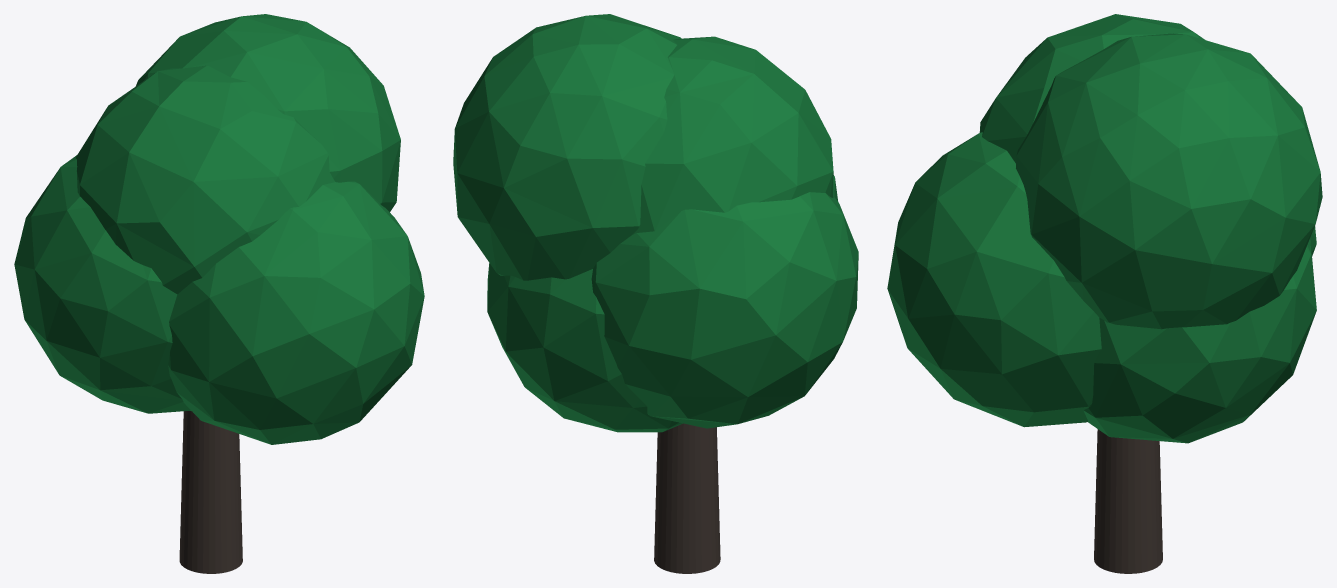
The model's file is tree.glb.
3 views of the same model, side by side, from view 1: azimuth 30°, elevation 25°; view 2: azimuth 150°, elevation 25°; view 3: azimuth 270°, elevation 25° (orthographic). The views are drawn at different scales.
Parts seen in each view (by area): view 1: Cylinder.001, Cylinder; view 2: Cylinder.001, Cylinder; view 3: Cylinder.001, Cylinder.
Boxes of the visible parts, x1=… form: Cylinder.001: x1=14, y1=14, x2=424, y2=444; Cylinder: x1=179, y1=411, x2=242, y2=573; Cylinder.001: x1=453, y1=14, x2=858, y2=432; Cylinder: x1=654, y1=423, x2=720, y2=573; Cylinder.001: x1=887, y1=14, x2=1322, y2=443; Cylinder: x1=1094, y1=429, x2=1162, y2=573.
Size of the model in its own units: 12.66 by 17.43 by 12.6.
1 material, 1 textured.
